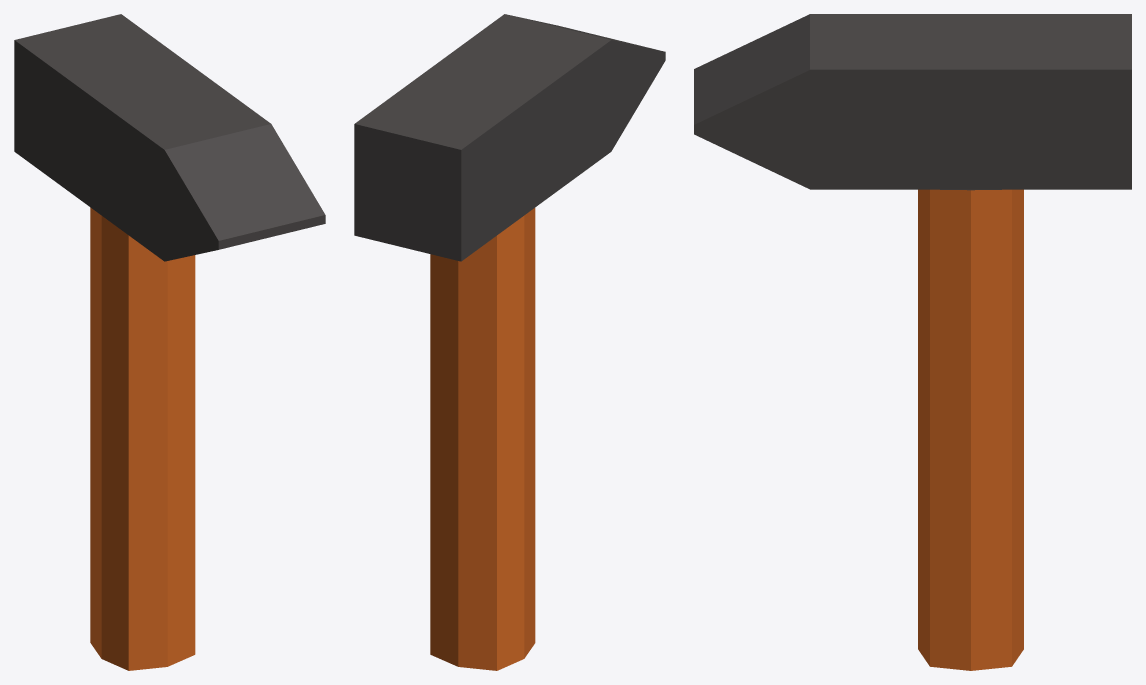
The model's file is iron_hammer.glb.
The picture shows the model from 3 angles, left to right: view 1: azimuth 30°, elevation 25°; view 2: azimuth 150°, elevation 25°; view 3: azimuth 270°, elevation 25°; orthographic projection. The views are drawn at different scales.
Visible parts, largest first — view 1: Cube; view 2: Cube; view 3: Cube.
Part boxes in pixels (left/top/right/bottom): Cube: left=14, top=14, right=325, bottom=670; Cube: left=354, top=14, right=665, bottom=670; Cube: left=694, top=14, right=1131, bottom=670.
Size of the model in its own units: 0.7471 by 3.79 by 2.48.
